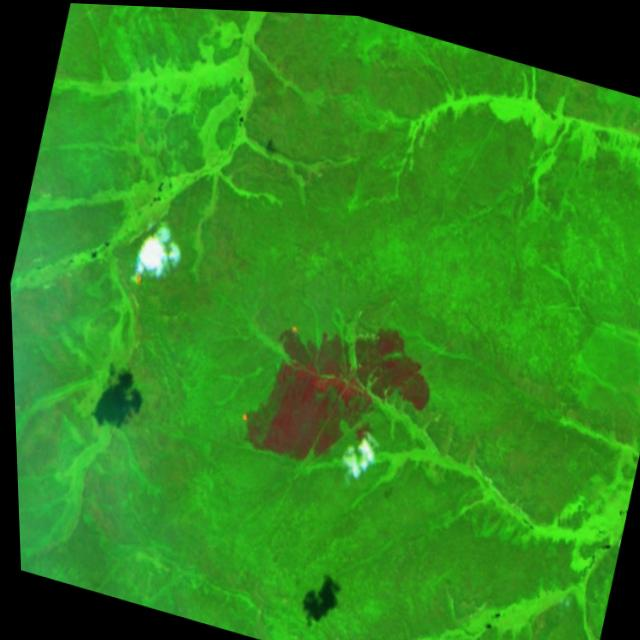fire: (232, 302, 314, 437), (127, 209, 188, 298)
